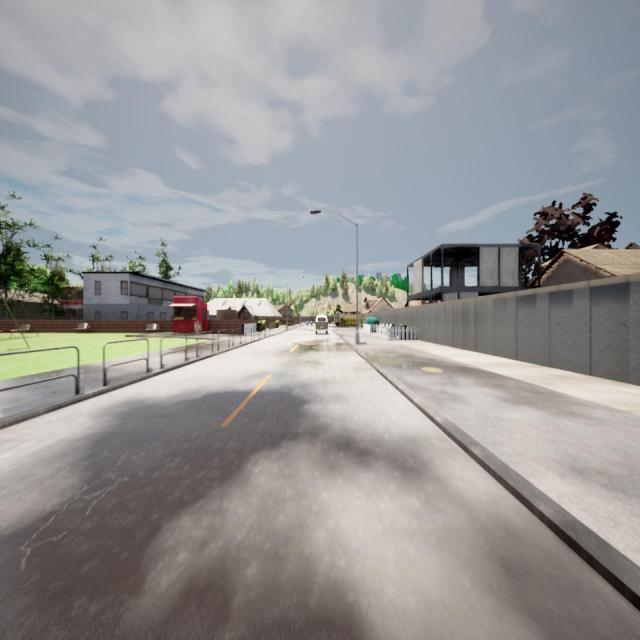Vehicle: (316, 314, 328, 334), (306, 319, 312, 326)
